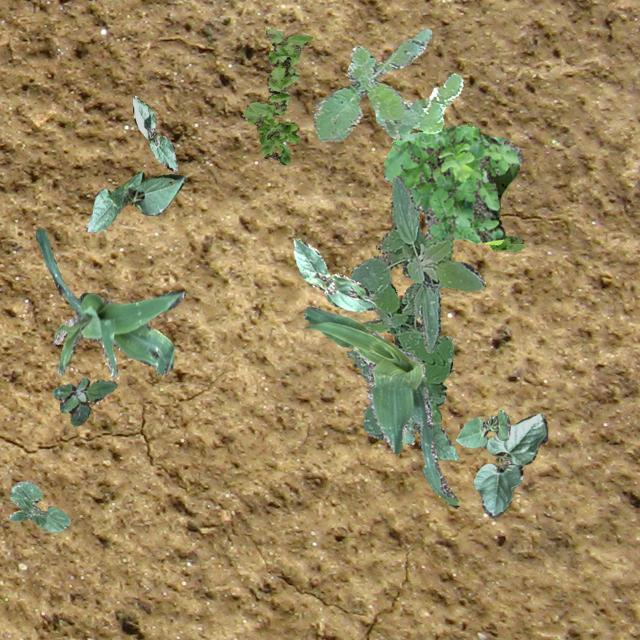crop: (302, 306, 458, 507), (34, 228, 184, 376), (472, 412, 546, 516), (84, 170, 184, 232), (292, 238, 374, 310), (132, 94, 178, 170), (8, 480, 68, 530), (399, 416, 456, 460), (454, 408, 508, 446)
weed: (350, 175, 484, 352), (382, 122, 522, 244), (346, 280, 454, 438), (312, 28, 462, 140), (242, 28, 312, 164), (444, 164, 526, 258), (51, 376, 116, 424)
